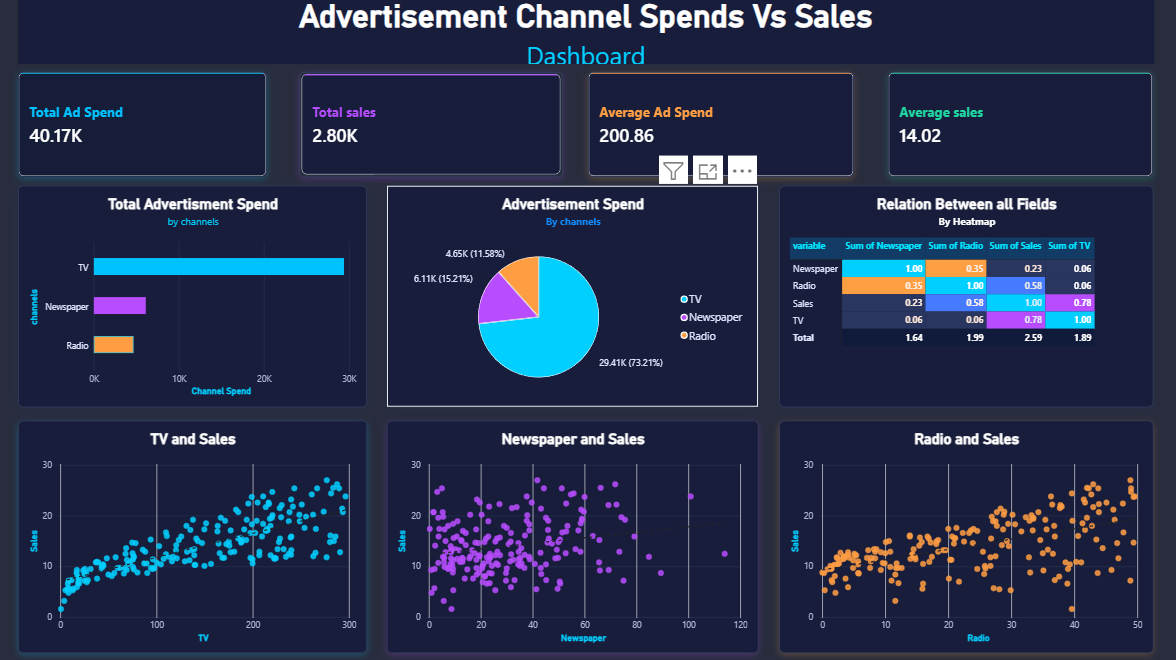

Layout of this report page (visuals, bound fields, positions):
{"tool":"powerbi","page":{"name":"Page 1","canvas":[1920,1080],"ordinal":0},"visuals":[{"type":"cardVisual","fields":{"Data":["Advertising.Total Ad Spend"]},"box":[34.5,121.7,403.1,170.2],"z":0},{"type":"cardVisual","fields":{"Data":["Advertising.Total sales"]},"box":[490.7,121.7,427.4,170.2],"z":1000},{"type":"cardVisual","fields":{"Data":["Advertising.Average Ad Spend"]},"box":[959.2,121.7,431.5,170.2],"z":2000},{"type":"cardVisual","fields":{"Data":["Advertising.Average sales"]},"box":[1445.9,121.7,429.5,170.2],"z":3000},{"type":"scatterChart","fields":{"X":["Advertising.TV"],"Y":["Advertising.Sales"]},"box":[34.5,687.5,565.8,377.2],"z":4000},{"type":"scatterChart","fields":{"X":["Advertising.Newspaper"],"Y":["Advertising.Sales"]},"box":[632.7,687.5,602.3,377.2],"z":5000},{"type":"scatterChart","fields":{"X":["Advertising.Radio"],"Y":["Advertising.Sales"]},"box":[1269.5,687.5,606.3,377.2],"z":6000},{"type":"clusteredBarChart","title":"Total Advertisment Spend","fields":{"Category":["Add channels.channels"],"Y":["Add channels.Channel Spend"]},"box":[34.5,306.2,565.8,358.9],"z":7000},{"type":"pivotTable","title":"Relation Between all Fields","fields":{"Rows":["Advertisment_correlationMatrix.variable"],"Values":["Sum(Advertisment_correlationMatrix.Newspaper)","Sum(Advertisment_correlationMatrix.Radio)","Sum(Advertisment_correlationMatrix.Sales)","Sum(Advertisment_correlationMatrix.TV)"]},"box":[1269.5,306.2,606.3,358.9],"z":8000},{"type":"pieChart","title":"Advertisement Spend ","fields":{"Category":["AdSpend_breakdown.Channels"],"Y":["Sum(AdSpend_breakdown.Ad_Spend)"]},"box":[632.7,306.2,602.3,358.9],"z":9000},{"type":"textbox","title":"Advertisement Channel Spends Vs Sales","box":[34.5,0,1841.3,107.5],"z":10000}]}

Visuals, with their boxes in screenshot pixels (x1, y1, x2, y2), scaled from the page's 1920x1080 canvas onto the 1176x660 screenshot:
cardVisual - Advertising.Total Ad Spend: BBox(21, 74, 268, 178)
cardVisual - Advertising.Total sales: BBox(301, 74, 562, 178)
cardVisual - Advertising.Average Ad Spend: BBox(588, 74, 852, 178)
cardVisual - Advertising.Average sales: BBox(886, 74, 1149, 178)
scatterChart - Advertising.TV x Advertising.Sales: BBox(21, 420, 368, 651)
scatterChart - Advertising.Newspaper x Advertising.Sales: BBox(388, 420, 756, 651)
scatterChart - Advertising.Radio x Advertising.Sales: BBox(778, 420, 1149, 651)
"Total Advertisment Spend" clusteredBarChart: BBox(21, 187, 368, 406)
"Relation Between all Fields" pivotTable: BBox(778, 187, 1149, 406)
"Advertisement Spend " pieChart: BBox(388, 187, 756, 406)
"Advertisement Channel Spends Vs Sales" textbox: BBox(21, 0, 1149, 66)
